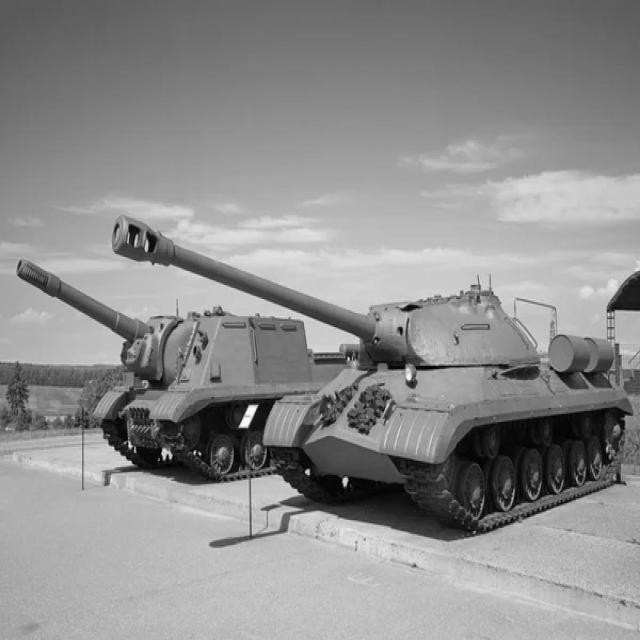Tank: (110, 209, 635, 531), (9, 248, 324, 485)
